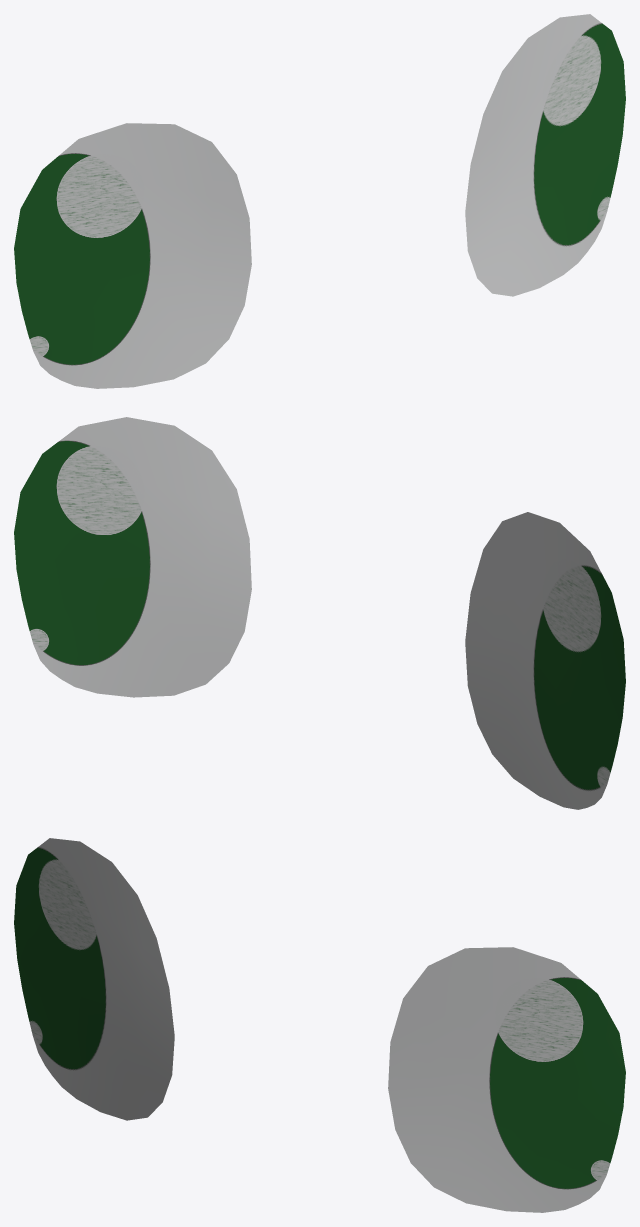
File: TriggerEyes.fbx
The picture shows the model from 3 angles, top to bottom: view 1: azimuth 30°, elevation 25°; view 2: azimuth 150°, elevation 25°; view 3: azimuth 330°, elevation 25°; orthographic projection.
Parts seen in each view (by area): view 1: Megaman_Eye_R, Megaman_Eye_L; view 2: Megaman_Eye_L, Megaman_Eye_R; view 3: Megaman_Eye_L, Megaman_Eye_R.
Part boxes in pixels (box(x1,y1,x2,y2)): Megaman_Eye_R: box(14, 123, 251, 388); Megaman_Eye_L: box(465, 14, 625, 296); Megaman_Eye_L: box(14, 417, 251, 697); Megaman_Eye_R: box(465, 512, 625, 809); Megaman_Eye_L: box(388, 947, 625, 1212); Megaman_Eye_R: box(14, 838, 174, 1120).
Bounding box in the file's own units: 15.65 × 6.65 × 1.79.
